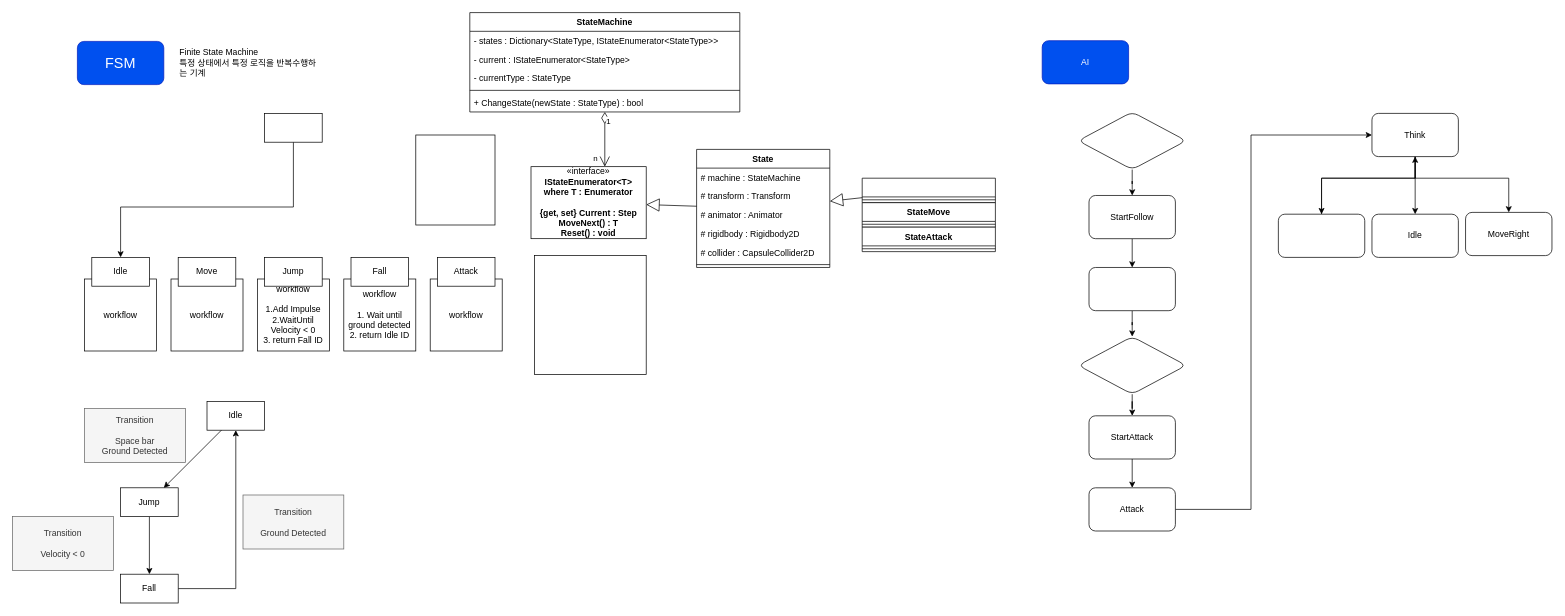
The diagram is 1565 pixels wide and 616 high, and some of its shapes have lost their labels. The centre of each missing label's shape, as x and y in pixels:
Follow: point 1131,289
Is Target detected: point 1131,140
Is Target in attack range: point 1131,365
Machine: point 293,127
MoveLeft: point 1321,235
StateIdle: point 928,190
«enum» StateType Idle, Move, Jump, Fall, Attack: point 455,179
«enum» Step None, Start, Casting, DoAction, WaitUntilActionFinished, Finish: point 590,314
